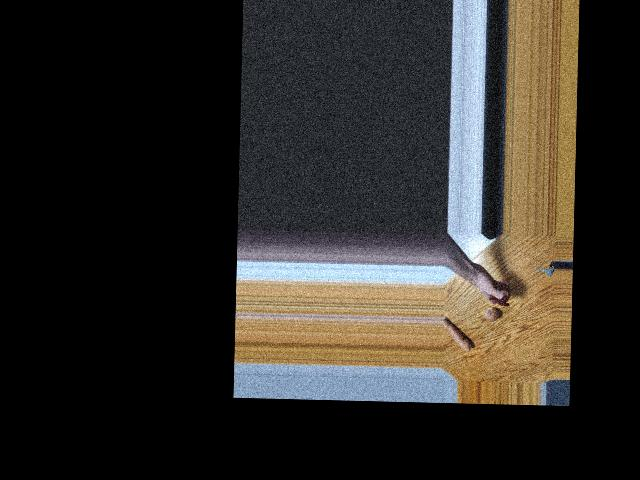onion: (484, 305, 499, 323)
